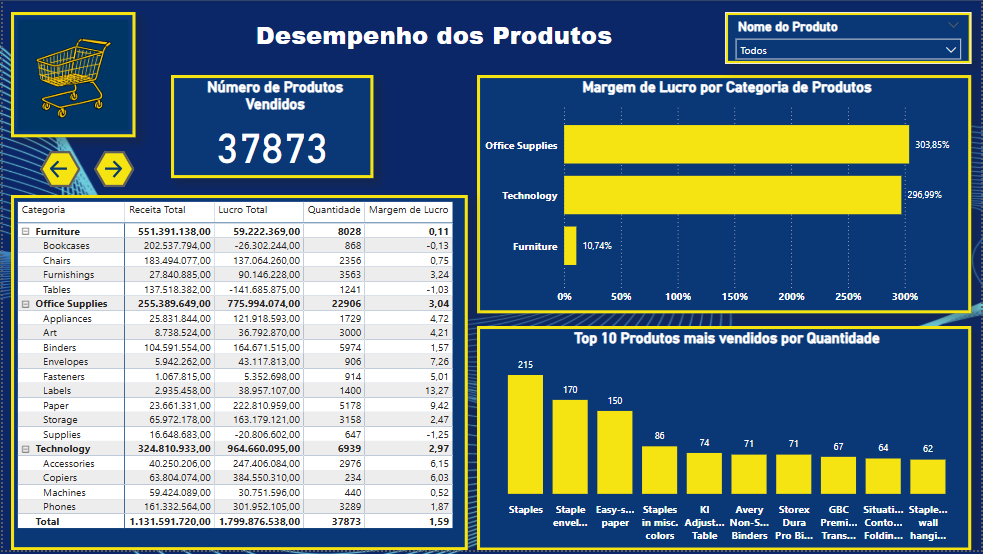

The dashboard page shown, as its layout file describes it:
{"tool":"powerbi","page":{"name":"Produtos","canvas":[1280,720],"ordinal":1},"visuals":[{"type":"clusteredBarChart","title":"Margem de Lucro por Categoria de Produtos","fields":{"Category":["PRODUTOS.Categoria"],"Y":["Medidas.MargemLucro"]},"box":[620.6,97.9,646.6,312.5],"z":0},{"type":"pivotTable","fields":{"Rows":["PRODUTOS.Categoria","PRODUTOS.Subcategoria"],"Values":["Medidas.ReceitaTotal","Medidas.LucroTotal","Sum(VENDAS.Quantidade)","Medidas.MargemLucro"]},"box":[10.1,254.9,597.6,465.1],"z":1000},{"type":"textbox","box":[197.3,0,733,97.9],"z":2000},{"type":"image","box":[10.1,15.8,162.7,164.2],"z":3000},{"type":"clusteredColumnChart","title":"Top 10 Produtos mais vendidos por Quantidade","fields":{"Category":["PRODUTOS.Nome do Produto"],"Y":["Sum(VENDAS.Quantidade)"]},"box":[620.6,426.2,646.6,293.8],"z":4000},{"type":"card","title":"Número de Produtos Vendidos","fields":{"Values":["Sum(VENDAS.Quantidade)"]},"box":[220.3,97.9,265,135.4],"z":5000},{"type":"slicer","fields":{"Values":["PRODUTOS.Nome do Produto"]},"box":[944.6,15.8,322.6,67.7],"z":6000},{"type":"actionButton","box":[119.5,197.3,53.3,47.5],"z":7000},{"type":"actionButton","box":[49,197.3,53.3,47.5],"z":8000}]}

Visuals, with their boxes in screenshot pixels (x1, y1, x2, y2), scaled from the page's 1280x720 canvas onto the 983x554 screenshot:
"Margem de Lucro por Categoria de Produtos" clusteredBarChart: x1=477 y1=75 x2=973 y2=316
pivotTable - PRODUTOS.Categoria x PRODUTOS.Subcategoria: x1=8 y1=196 x2=467 y2=553
textbox: x1=152 y1=0 x2=714 y2=75
image: x1=8 y1=12 x2=133 y2=138
"Top 10 Produtos mais vendidos por Quantidade" clusteredColumnChart: x1=477 y1=328 x2=973 y2=553
"Número de Produtos Vendidos" card: x1=169 y1=75 x2=373 y2=180
slicer - PRODUTOS.Nome do Produto: x1=725 y1=12 x2=973 y2=64
actionButton: x1=92 y1=152 x2=133 y2=188
actionButton: x1=38 y1=152 x2=79 y2=188
